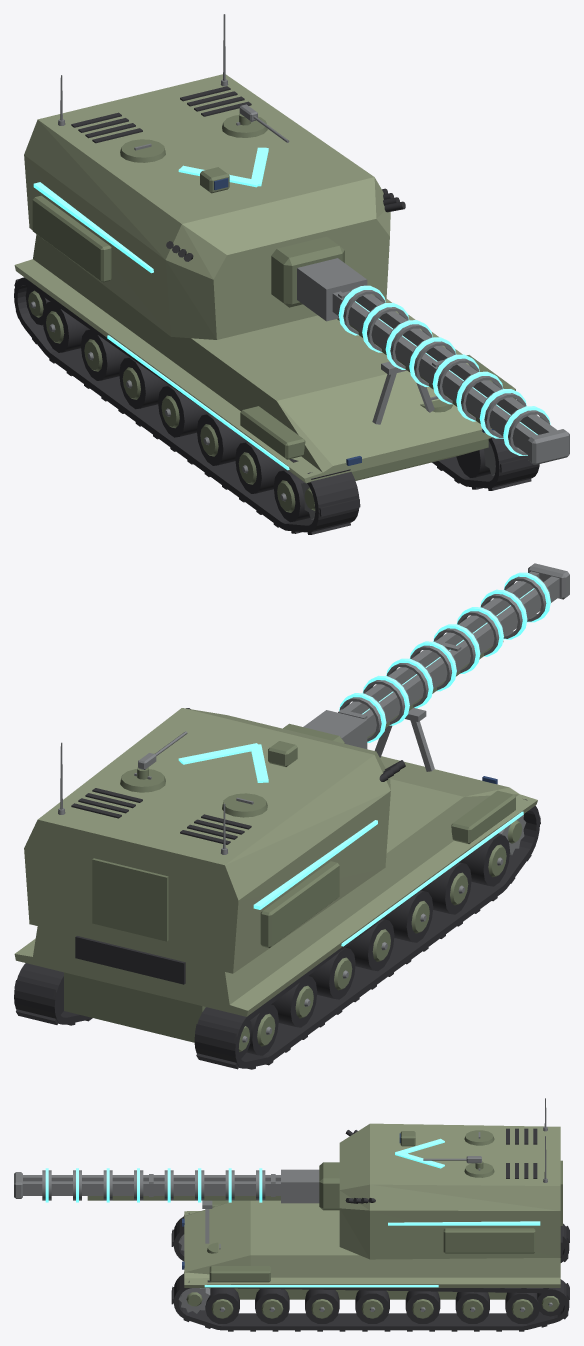
The model's file is spg_blue.glb.
The picture shows the model from 3 angles, top to bottom: view 1: azimuth 30°, elevation 25°; view 2: azimuth 150°, elevation 25°; view 3: azimuth 270°, elevation 25°; orthographic projection. The views are drawn at different scales.
Visible parts, largest first — view 1: turret, body, gun; view 2: turret, body, gun; view 3: body, turret, gun.
Part boxes in pixels (x1,y1,x2,y2): turret: (24, 14, 405, 339); body: (14, 234, 539, 534); gun: (271, 236, 569, 464); turret: (24, 708, 405, 973); body: (14, 707, 540, 1069); gun: (283, 563, 569, 748); body: (171, 1200, 569, 1331); turret: (339, 1098, 562, 1259); gun: (14, 1162, 339, 1210).
Size of the model in its own units: 3.52 by 4.05 by 10.93.
